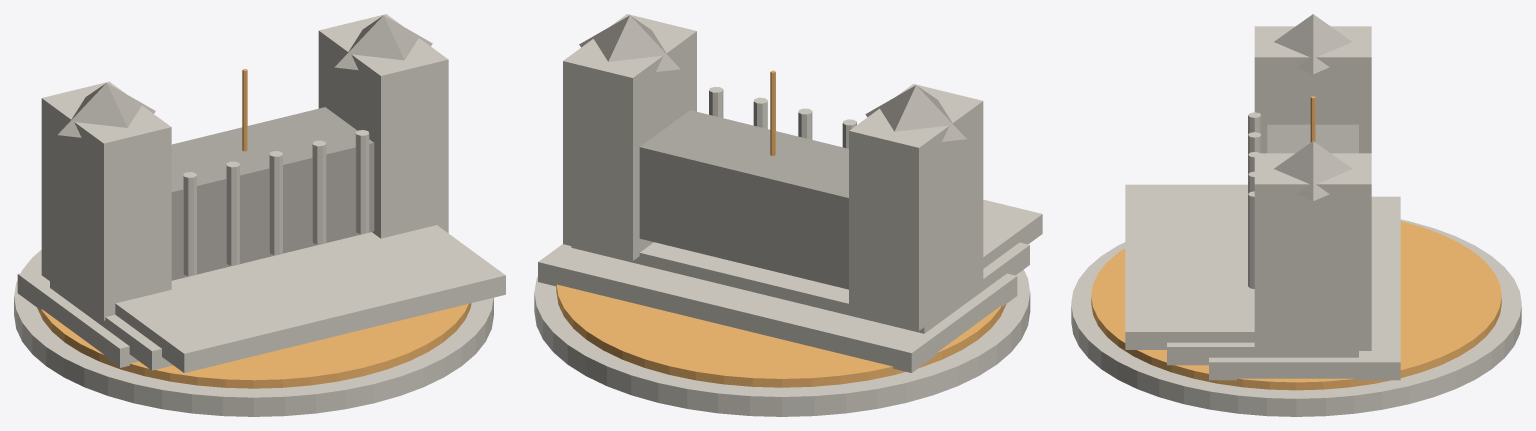
File: union-buildings.glb
3 renders of one model, left to right at view 1: azimuth 30°, elevation 25°; view 2: azimuth 150°, elevation 25°; view 3: azimuth 270°, elevation 25°, orthographic. The views are drawn at different scales.
Parts seen in each view (by area): view 1: Cone.009; view 2: Cone.009; view 3: Cone.009.
Boxes of the visible parts, left/top/right/bottom form: Cone.009: left=14, top=14, right=505, bottom=416; Cone.009: left=534, top=14, right=1042, bottom=416; Cone.009: left=1071, top=14, right=1521, bottom=416.
Size of the model in its own units: 2.7 by 1.62 by 2.7.
